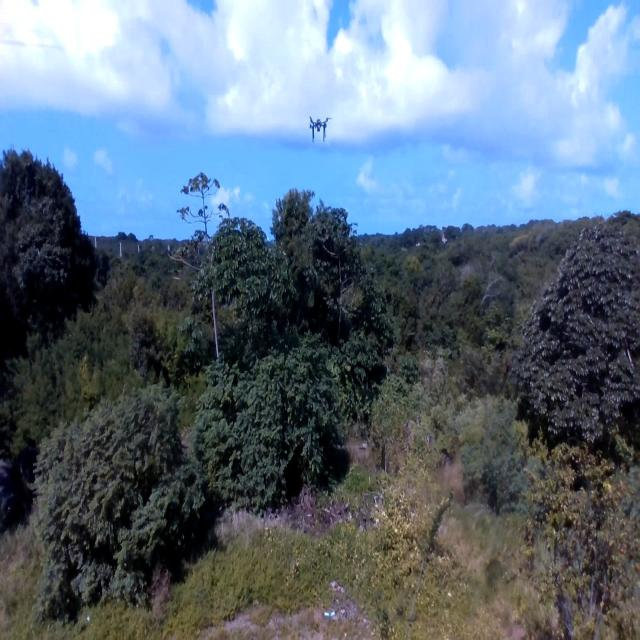-uav-: (299, 106, 336, 148)
